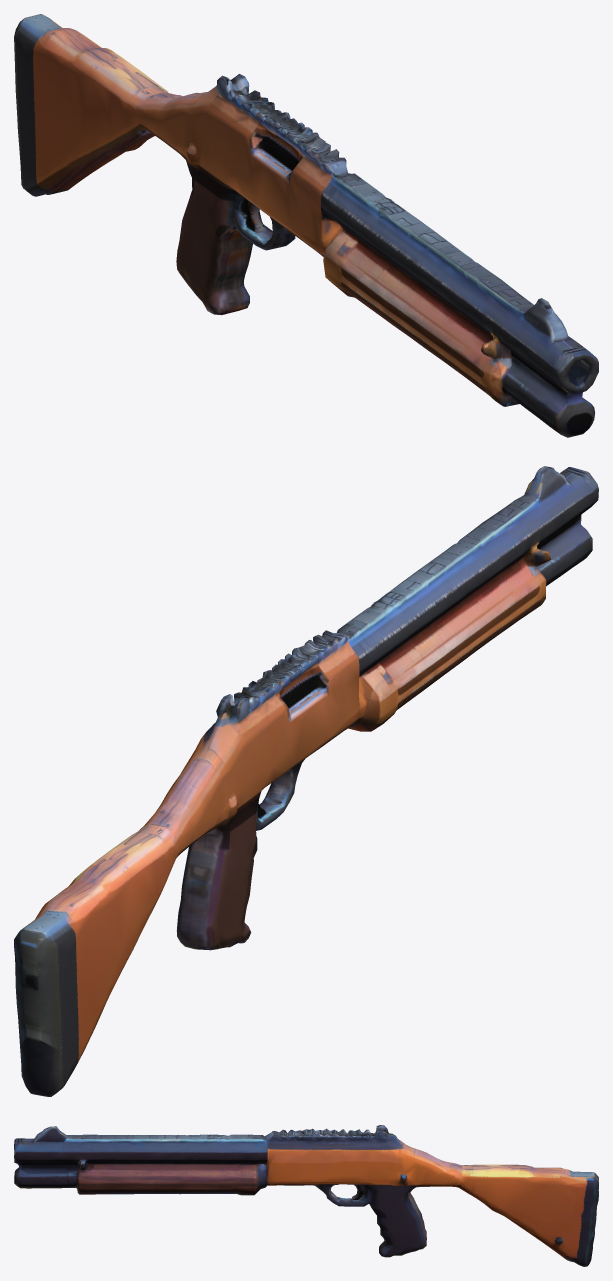
File: shotgun.glb
3 renders of one model, top to bottom at view 1: azimuth 30°, elevation 25°; view 2: azimuth 150°, elevation 25°; view 3: azimuth 270°, elevation 25°, orthographic. The views are drawn at different scales.
Bounding box in the file's own units: 0.1438 × 0.5212 × 2.01.
Materials: 1 (1 with a texture image).
